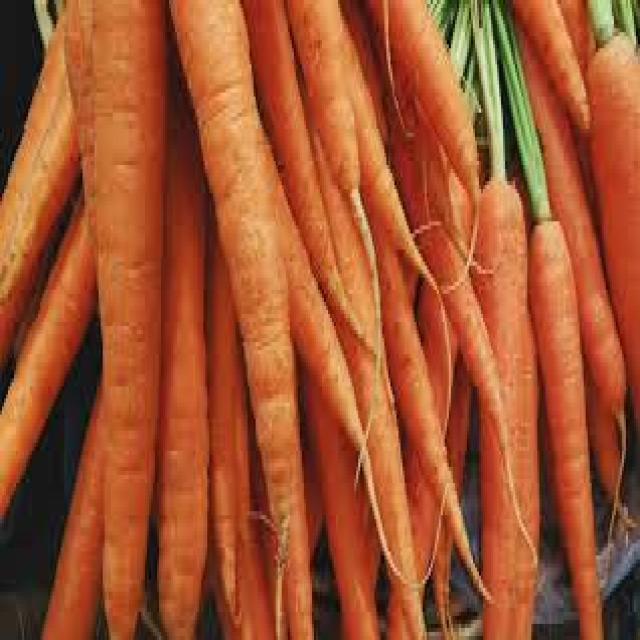Fresh_Carrot: (90, 0, 164, 640), (530, 219, 612, 640), (244, 0, 334, 286)
